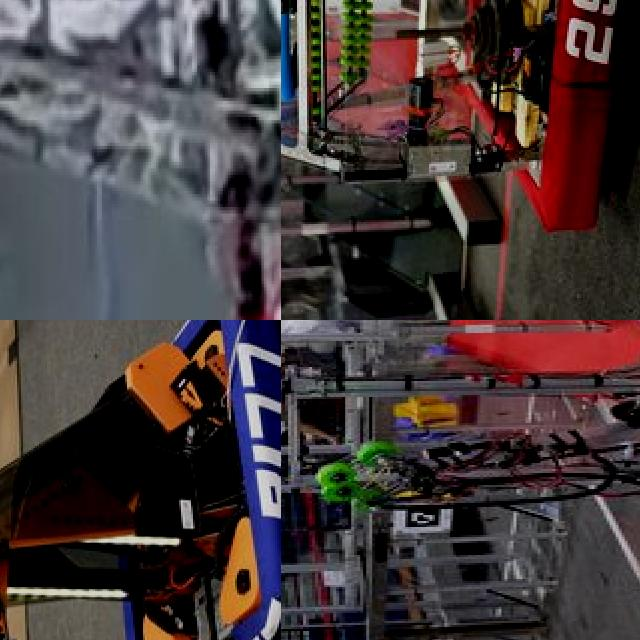FRC-Robots: (0, 0, 281, 320), (0, 320, 281, 640), (281, 0, 631, 255), (282, 320, 640, 551)
